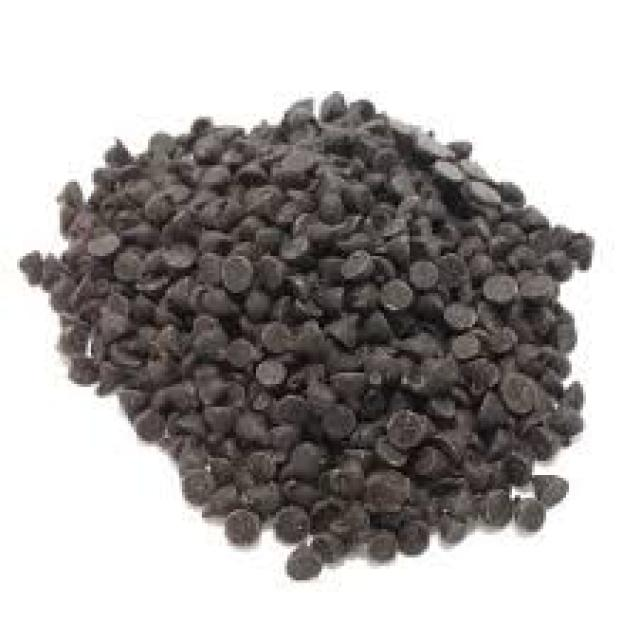Chocolate: (18, 86, 598, 582)
